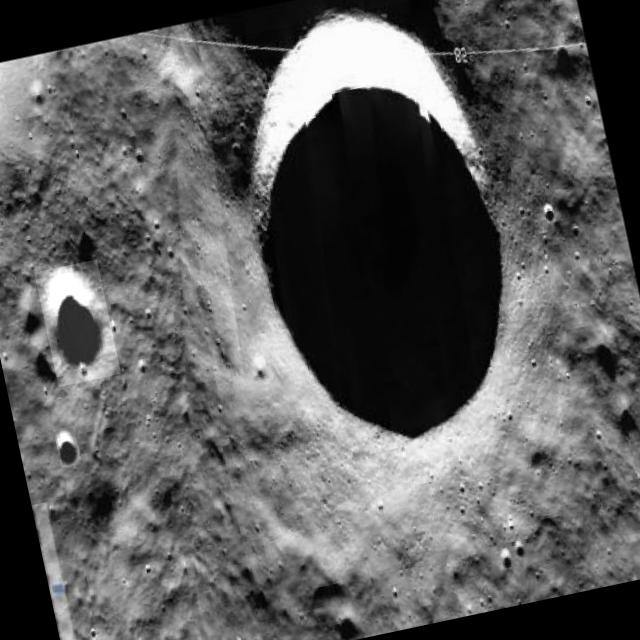crater: (214, 0, 543, 465), (35, 259, 122, 387), (54, 426, 83, 468)
